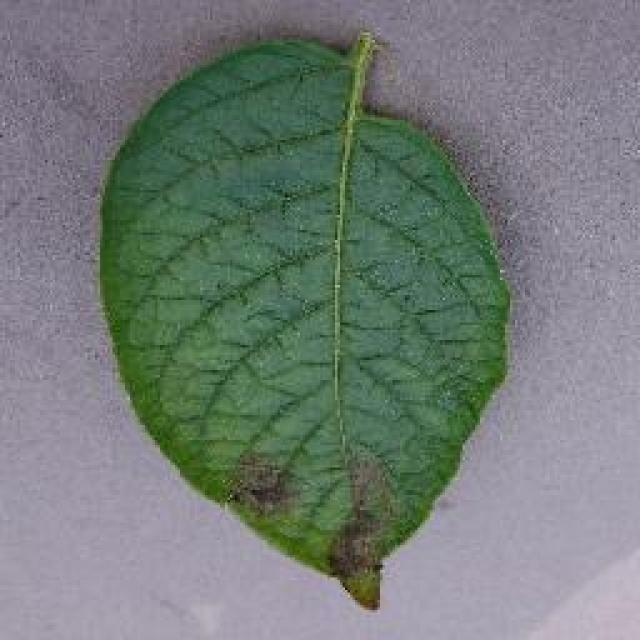Potato___Late_blight: (102, 31, 515, 614)
